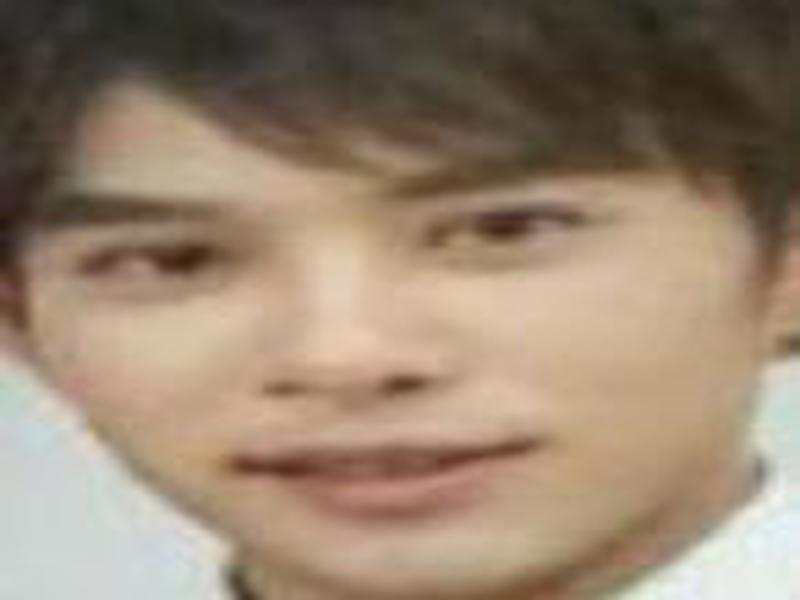without_mask: (10, 93, 774, 591)
